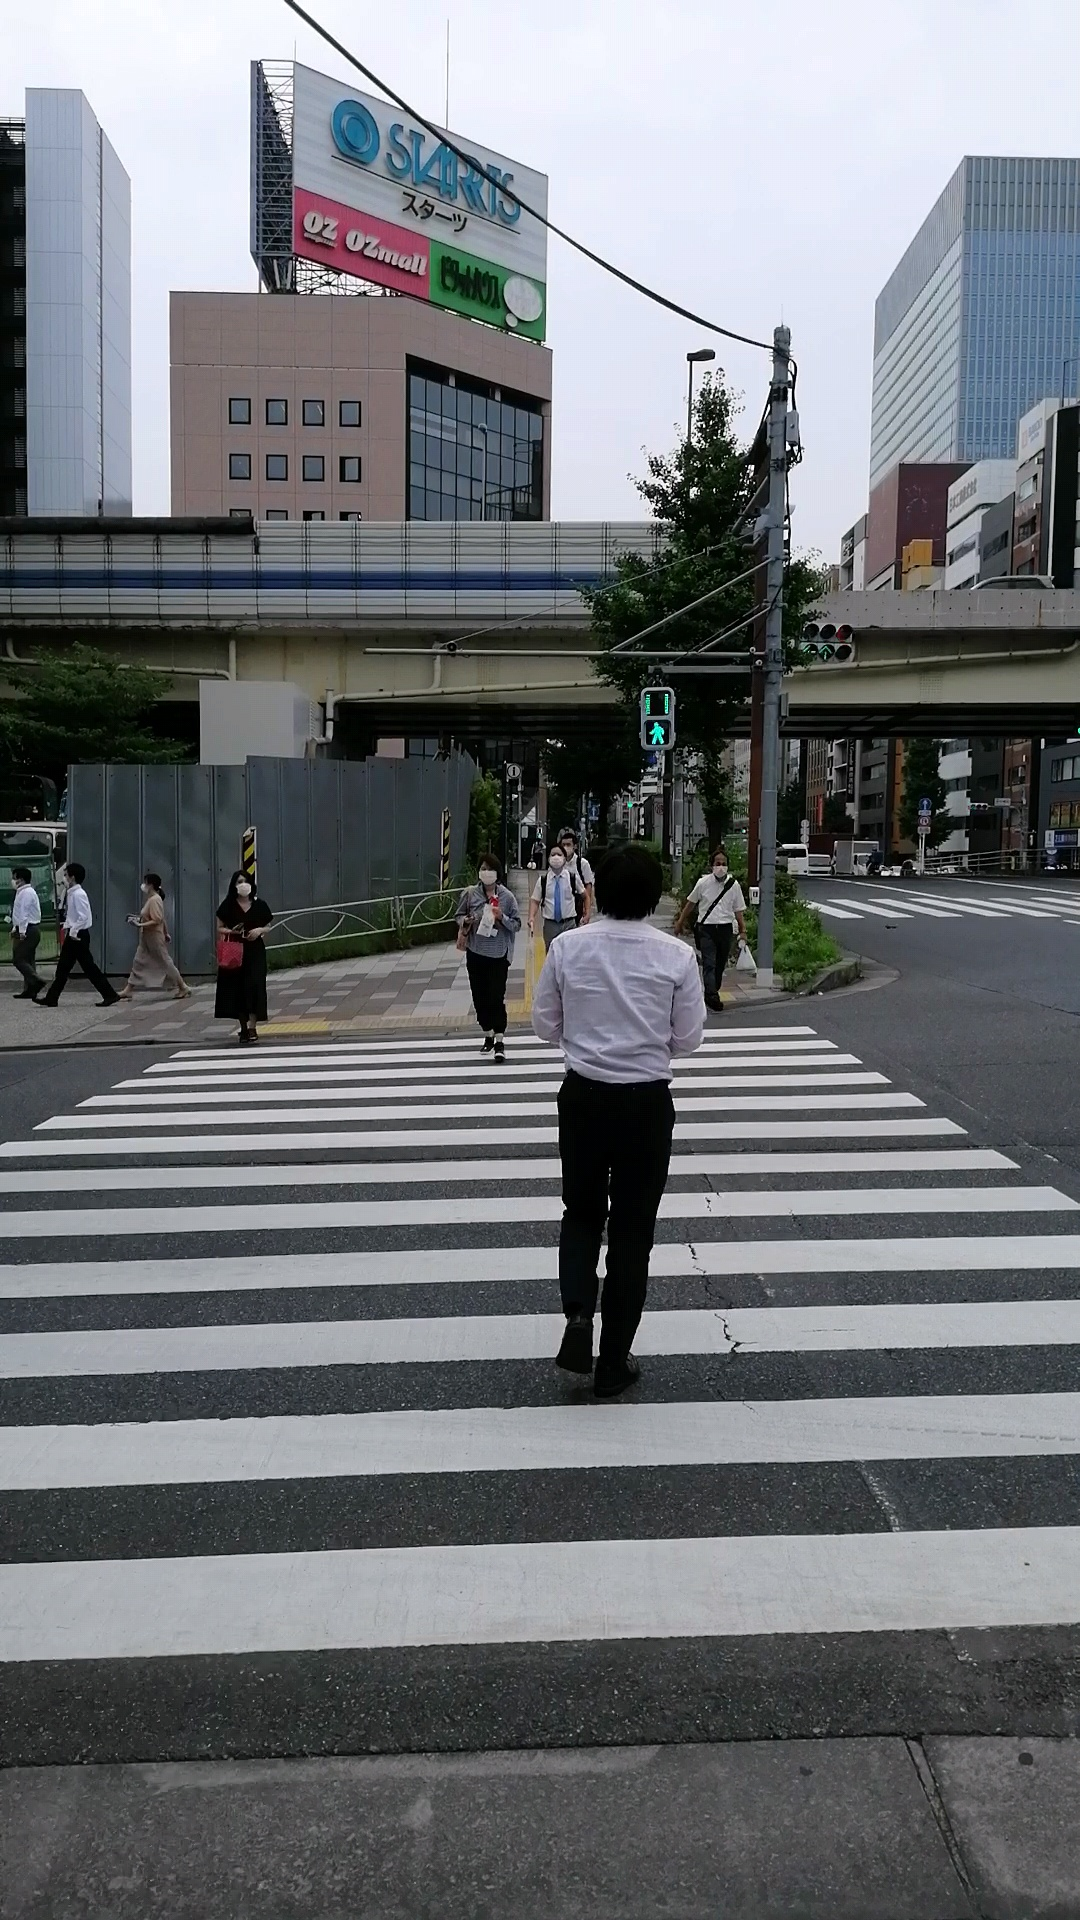green: (637, 687, 674, 750)
